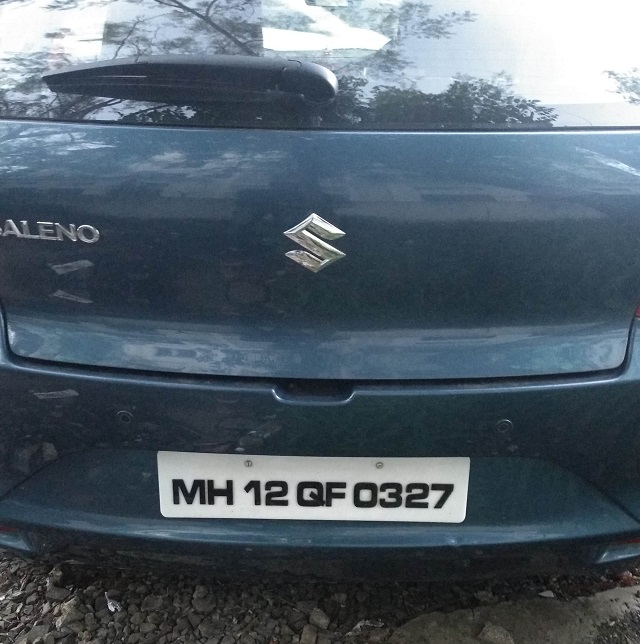licenseplate: (156, 448, 473, 524)
